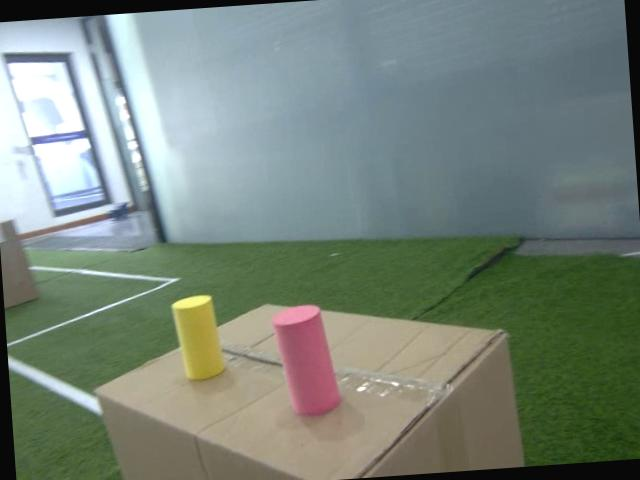red_cylinder: (268, 304, 344, 420)
yellow_cylinder: (168, 292, 228, 384)
